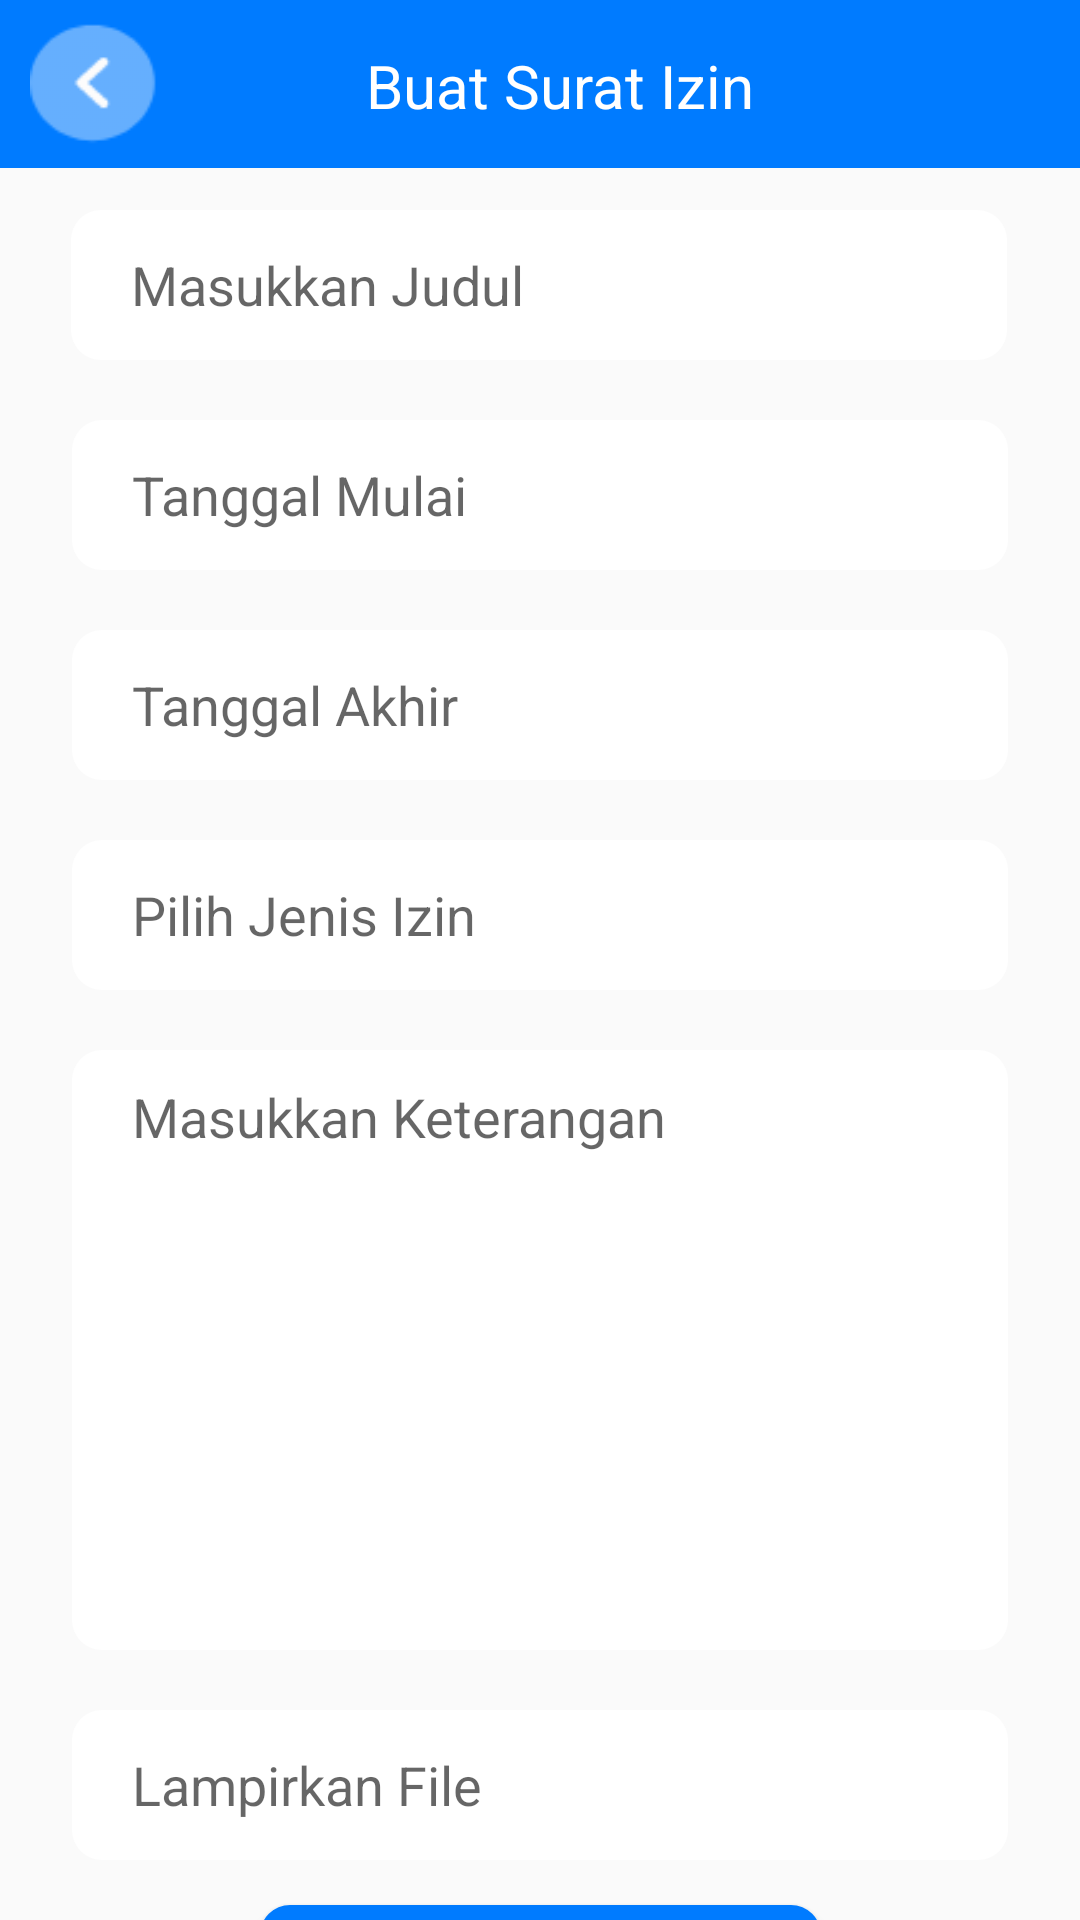

Where to tap for icons on this 1080w x 1920h app screen, as point (x, y):
back: point (93, 83)
